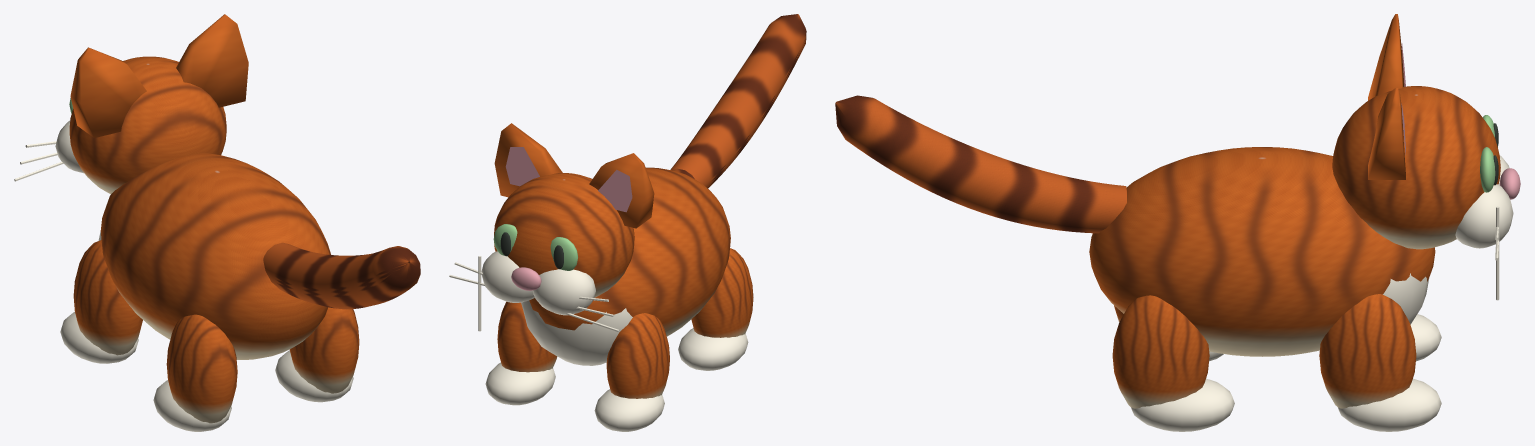
File: tiger.glb
3 views of the same model, side by side, from view 1: azimuth 30°, elevation 25°; view 2: azimuth 150°, elevation 25°; view 3: azimuth 270°, elevation 25° (orthographic). The views are drawn at different scales.
Visible parts, largest first — view 1: body, head, flexible_tail, hind left foreleg, front left foreleg, sculpted ear, sculpted ear.001, hind right foreleg, front left white paw, hind left white paw, hind right white paw, white muzzle left; view 2: body, head, flexible_tail, front left foreleg, white chest, hind left foreleg, front right foreleg, white muzzle left, sculpted ear, hind left white paw, front left white paw, front right white paw (+7 smaller); view 3: body, head, flexible_tail, front right foreleg, hind right foreleg, front right white paw, hind right white paw, sculpted ear.001, white muzzle right, sculpted ear, white chest, front left white paw.
Part boxes in pixels (left/top/right/bottom): body: left=100, top=153, right=330, bottom=359; head: left=69, top=56, right=226, bottom=194; flexible_tail: left=263, top=242, right=420, bottom=309; hind left foreleg: left=166, top=314, right=237, bottom=423; front left foreleg: left=73, top=240, right=142, bottom=355; sculpted ear: left=70, top=47, right=146, bottom=137; sculpted ear.001: left=176, top=14, right=248, bottom=107; hind right foreleg: left=289, top=307, right=359, bottom=393; front left white paw: left=60, top=312, right=138, bottom=363; hind left white paw: left=153, top=380, right=231, bottom=431; hind right white paw: left=275, top=350, right=353, bottom=402; white muzzle left: left=55, top=120, right=83, bottom=173; body: left=529, top=167, right=730, bottom=336; head: left=494, top=173, right=634, bottom=297; flexible_tail: left=670, top=14, right=806, bottom=188; front left foreleg: left=606, top=313, right=669, bottom=398; white chest: left=521, top=300, right=632, bottom=365; hind left foreleg: left=691, top=248, right=753, bottom=337; front right foreleg: left=497, top=301, right=557, bottom=372; white muzzle left: left=533, top=269, right=595, bottom=315; sculpted ear: left=589, top=153, right=654, bottom=228; hind left white paw: left=678, top=328, right=748, bottom=370; front left white paw: left=594, top=389, right=664, bottom=431; front right white paw: left=485, top=362, right=555, bottom=405; body: left=1089, top=147, right=1435, bottom=356; head: left=1332, top=86, right=1500, bottom=249; flexible_tail: left=835, top=95, right=1126, bottom=233; front right foreleg: left=1319, top=294, right=1416, bottom=408; hind right foreleg: left=1112, top=295, right=1209, bottom=408; front right white paw: left=1338, top=378, right=1441, bottom=431; hind right white paw: left=1131, top=378, right=1234, bottom=431; sculpted ear.001: left=1368, top=88, right=1405, bottom=179; white muzzle right: left=1455, top=184, right=1513, bottom=248; sculpted ear: left=1368, top=14, right=1404, bottom=100; white chest: left=1383, top=273, right=1429, bottom=324; front left white paw: left=1410, top=314, right=1441, bottom=361.
Size of the model in its own units: 1.15 by 1.79 by 3.25.
Materials: 6 (2 with a texture image).
